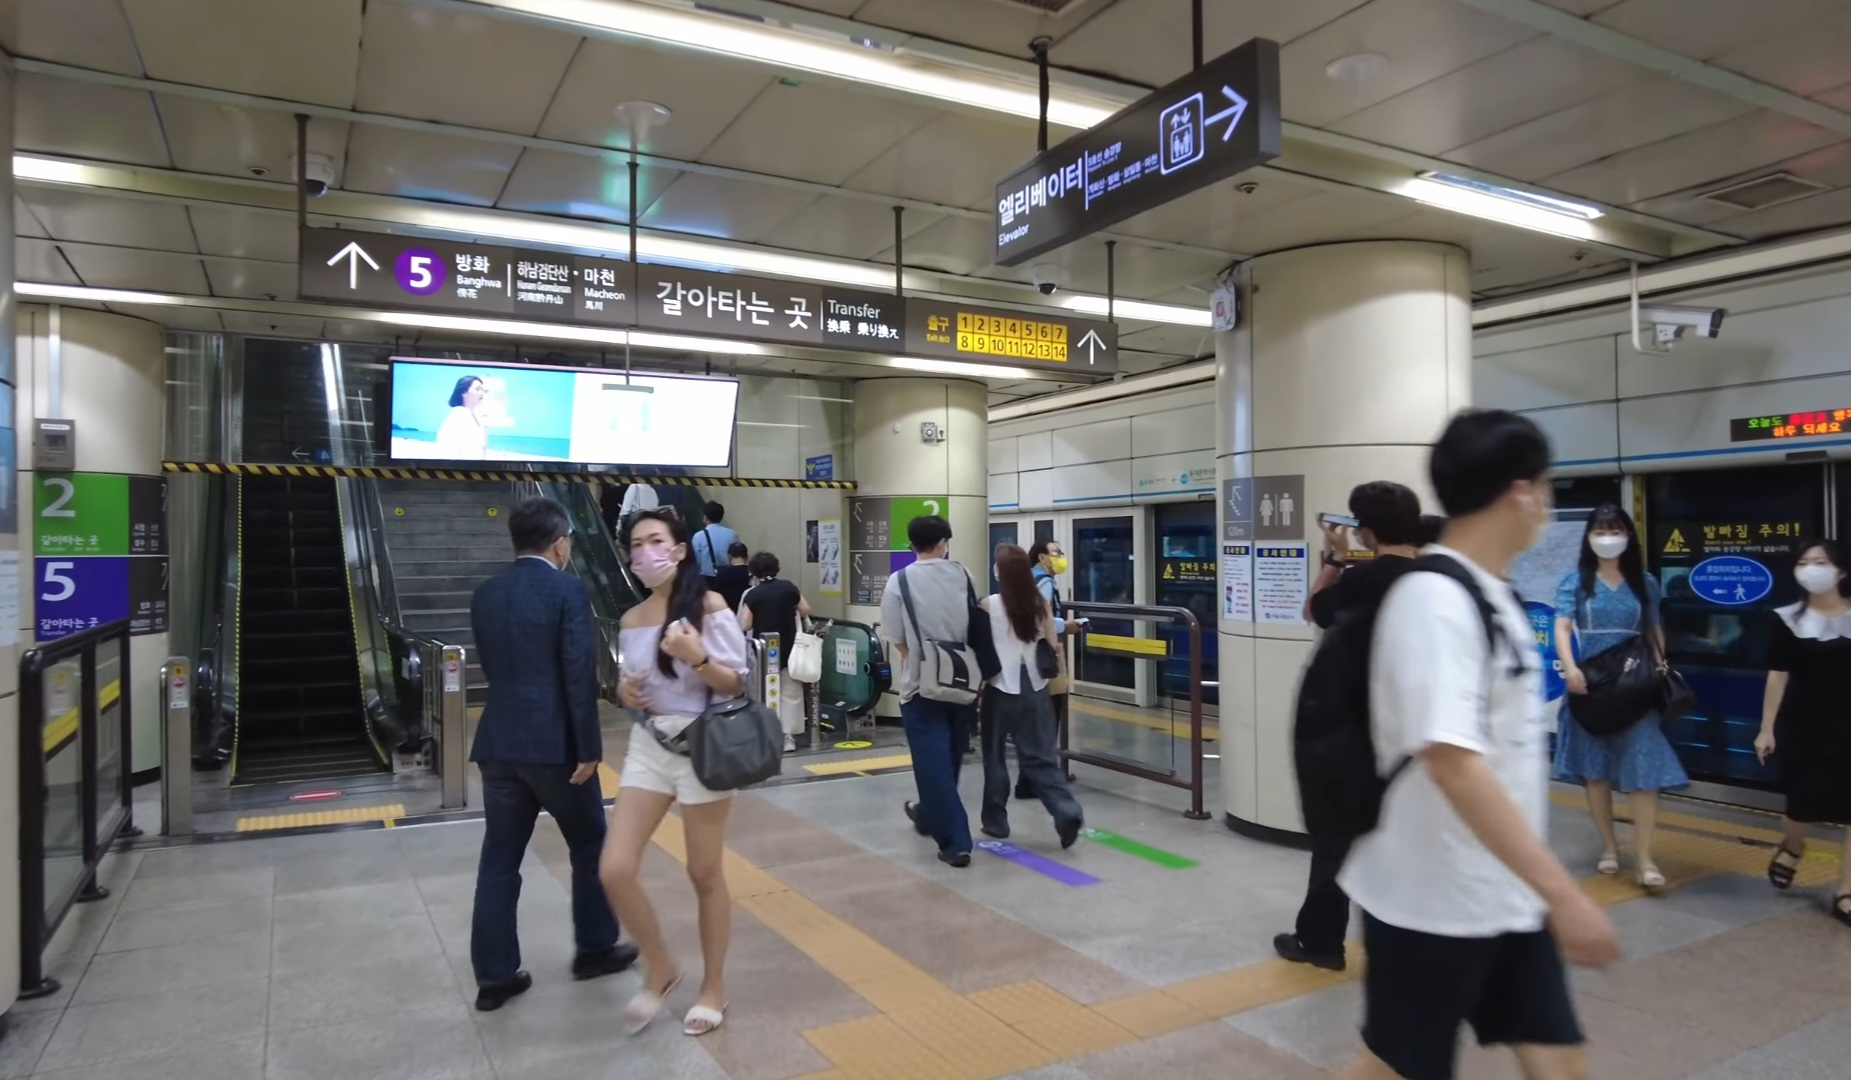signBoard: (293, 219, 1118, 388)
